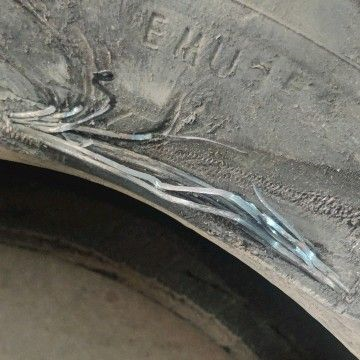bead_damage: (2, 43, 359, 346)
